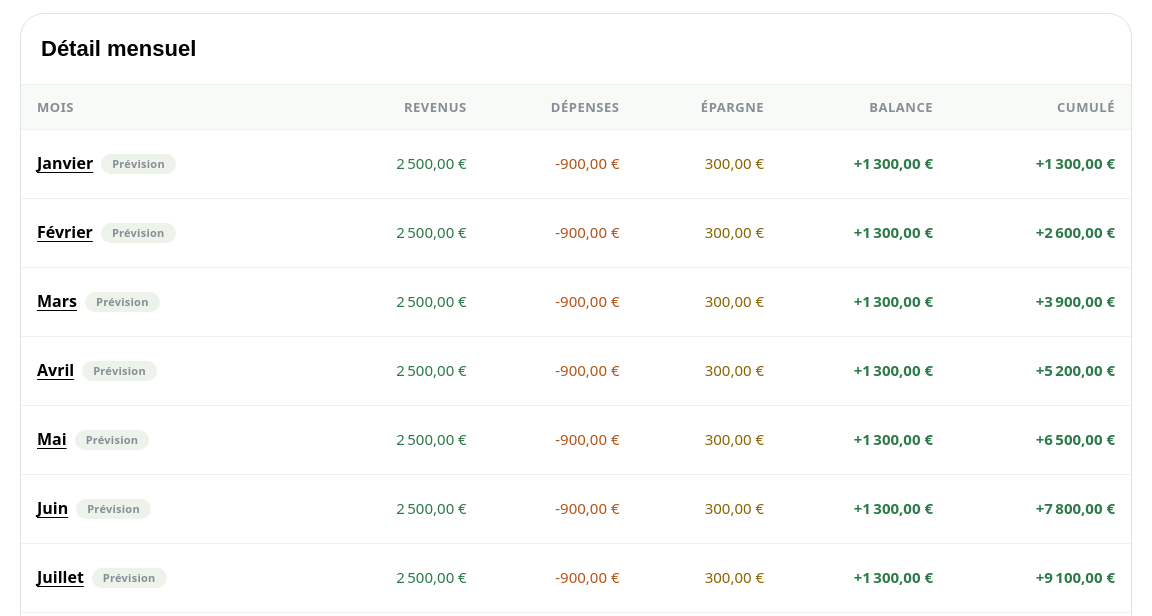
Scenario: SummaryPage month breakdown › opens the month from the table and lists budgets by type, unbudgeted and totals
This screenshot has width=1152, height=616.
(page scrolled)
Click the button with aria-label "Détail de mars 2027": [57, 302] box top-left (37, 280), bottom-right (77, 324)
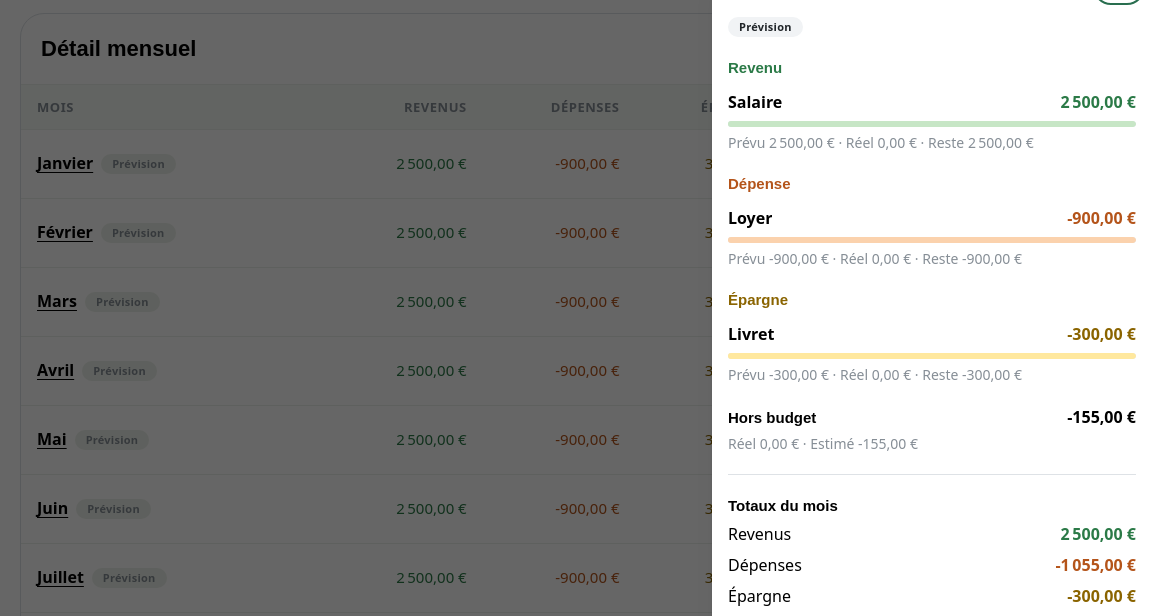
Expected: the headings read "Revenu", "Dépense", "Épargne", "Hors budget", "Totaux du mois", in this order, top-left (728, 59), bottom-right (782, 76); top-left (728, 175), bottom-right (790, 192); top-left (728, 291), bottom-right (788, 308); top-left (728, 407), bottom-right (816, 428); top-left (728, 497), bottom-right (838, 514)
